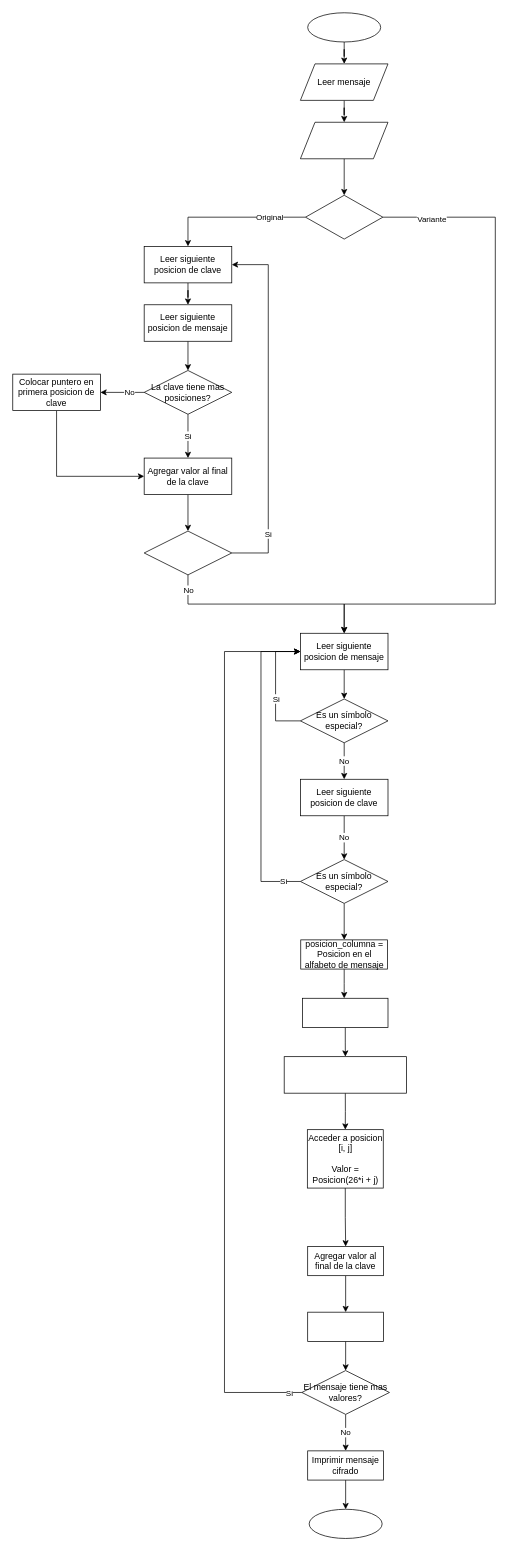
This 514x1551 diagram has some shape labels left out. The shapes that lost their labels are listed below. From the top down, each one's centre as x and y in pixels, then its label:
the point at 344,27: Inicio
the point at 344,140: Leer clave
the point at 344,217: Algoritmo?
the point at 187,552: El mensaje tiene mas posiciones?
the point at 345,1012: posicion_fila = Posicion en el alfabeto de clave
the point at 344,1074: j = ((26 - posicion_columna) + (posicion_fila) + 1) % 26
the point at 345,1326: Agregar valor a mensaje cifrado
the point at 345,1523: Fin
